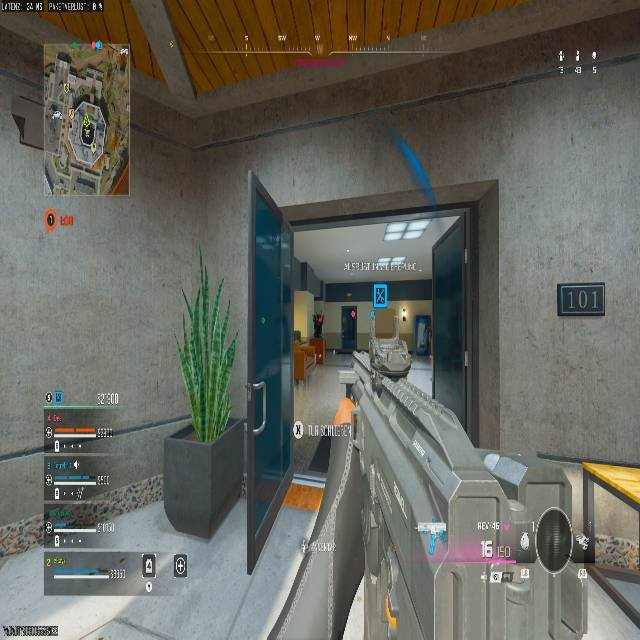player: (306, 311, 327, 371), (341, 309, 358, 353), (312, 311, 324, 338)
